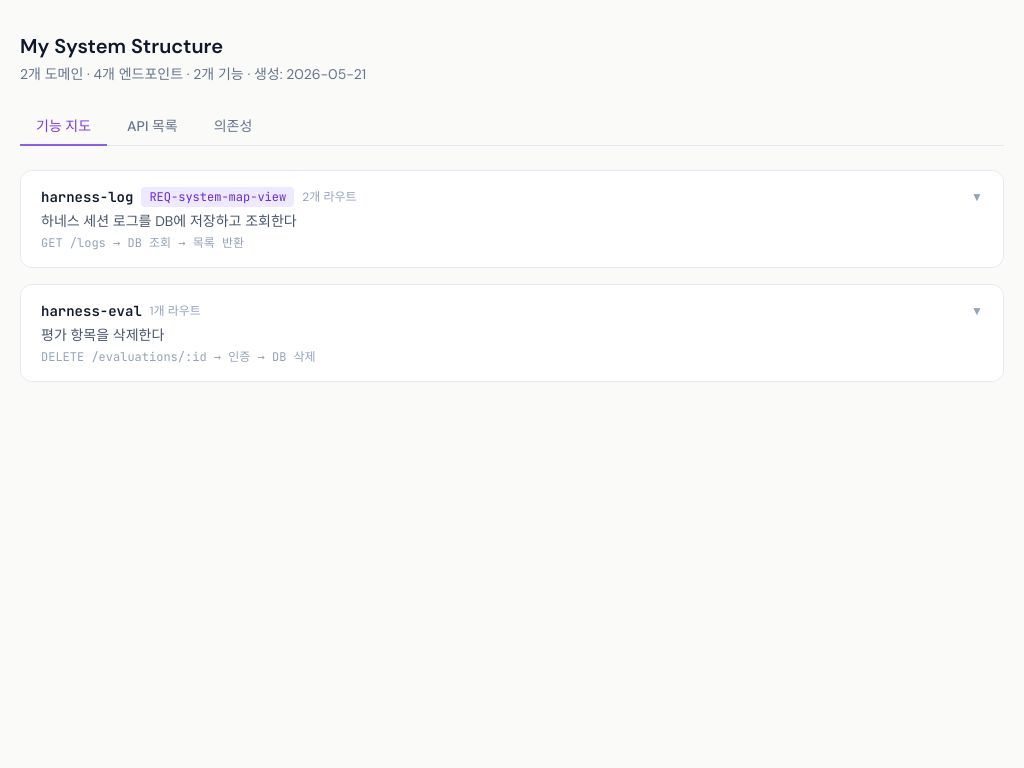
Scenario: SystemStructurePage — feature 카드 펼침 › 펼친 라우트 목록에 method·path·auth가 표시된다 (AC-4)
Click the button that starts with "harness-log" at (87, 197), box [21,171,1003,267]
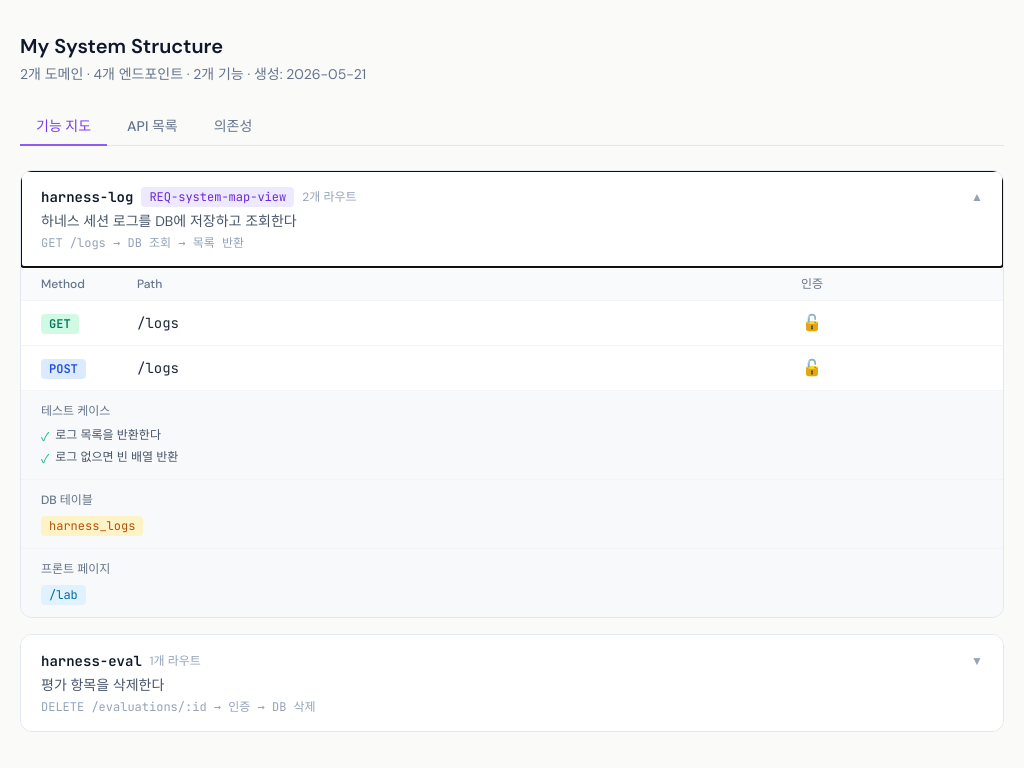
Expected: the element that starts with "harness-log" shows "GET", [49,316,71,332]
Result: the element that starts with "harness-log" shows "POST" at [49,361,78,377]
